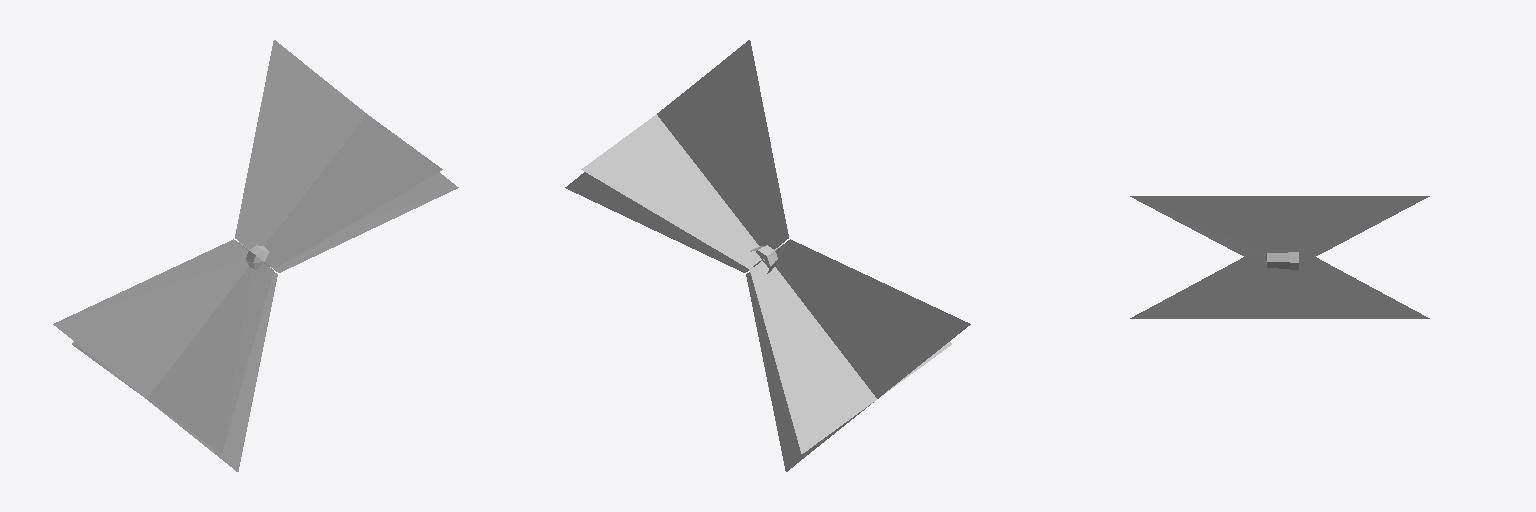
Rendered from stg400_MotRotlightA_n3_14.obj.
The picture shows the model from 3 angles: view 1: azimuth 30°, elevation 25°; view 2: azimuth 150°, elevation 25°; view 3: azimuth 270°, elevation 25°; orthographic projection.
Visible parts, largest first — view 1: polygon4; view 2: polygon4; view 3: polygon4.
Boxes of the visible parts, x1=… form: polygon4: x1=53, y1=40, x2=458, y2=471; polygon4: x1=565, y1=40, x2=970, y2=471; polygon4: x1=1130, y1=196, x2=1429, y2=318.
Size of the model in its own units: 141 by 141 by 91.26.